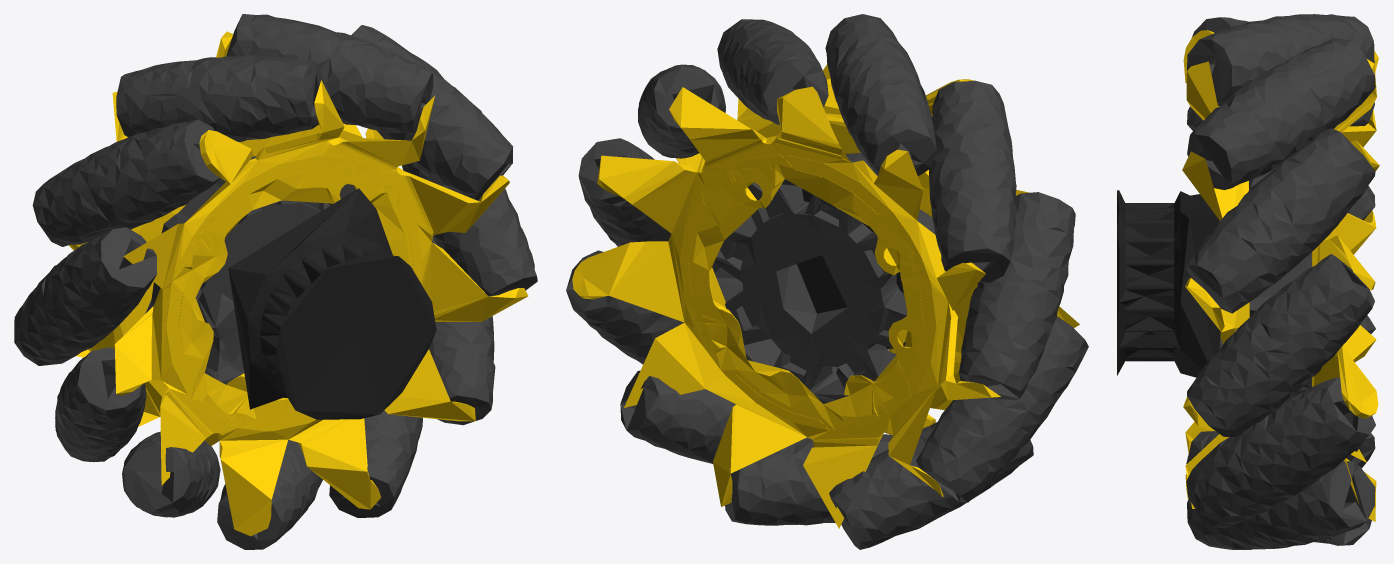
File: wheelFR.glb
3 renders of one model, left to right at view 1: azimuth 30°, elevation 25°; view 2: azimuth 150°, elevation 25°; view 3: azimuth 270°, elevation 25°, orthographic.
Parts seen in each view (by area): view 1: wheelFR_2, wheelFR_1, wheelFR_0; view 2: wheelFR_2, wheelFR_1, wheelFR_0; view 3: wheelFR_2, wheelFR_0, wheelFR_1.
Part boxes in pixels (bbox=[...]): wheelFR_2: bbox=[14, 14, 537, 549]; wheelFR_1: bbox=[68, 31, 528, 536]; wheelFR_0: bbox=[228, 188, 436, 419]; wheelFR_2: bbox=[566, 14, 1088, 549]; wheelFR_1: bbox=[572, 64, 1079, 528]; wheelFR_0: bbox=[797, 188, 903, 349]; wheelFR_2: bbox=[1186, 14, 1375, 549]; wheelFR_0: bbox=[1117, 190, 1220, 377]; wheelFR_1: bbox=[1182, 30, 1379, 521].
Size of the model in its own units: 4.09 by 4.09 by 2.
